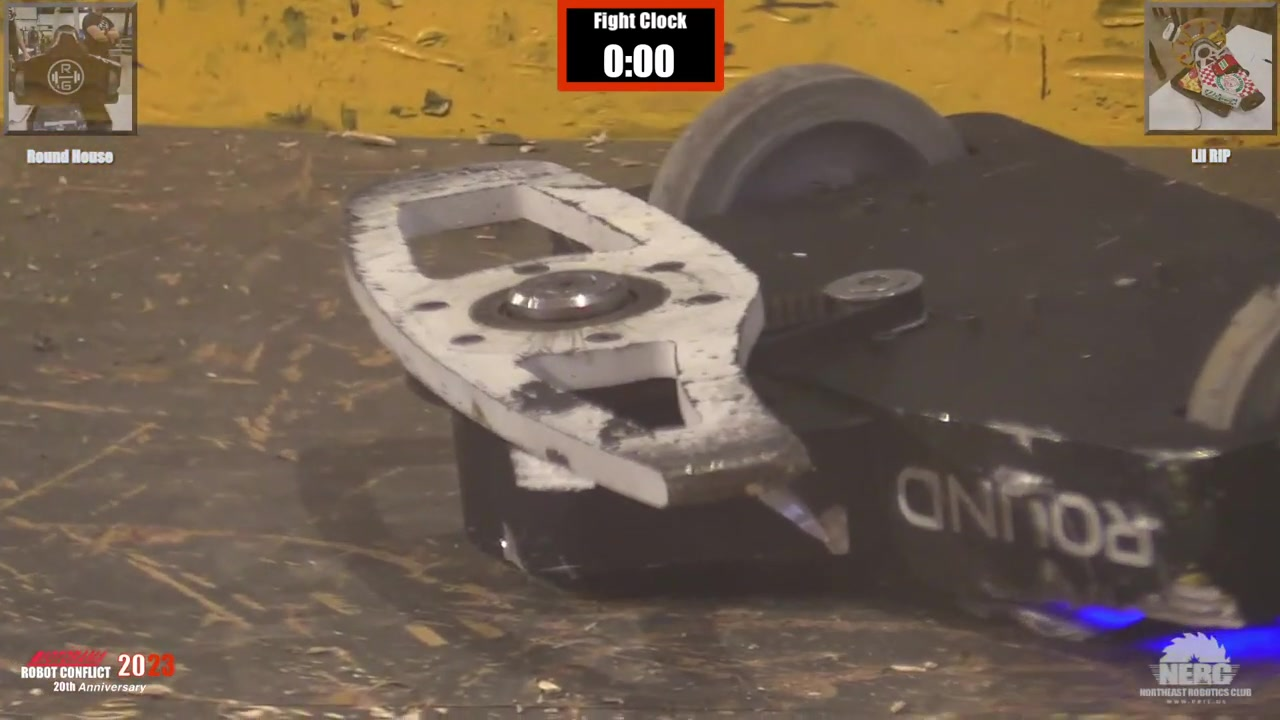combatbot: (459, 111, 1278, 632)
